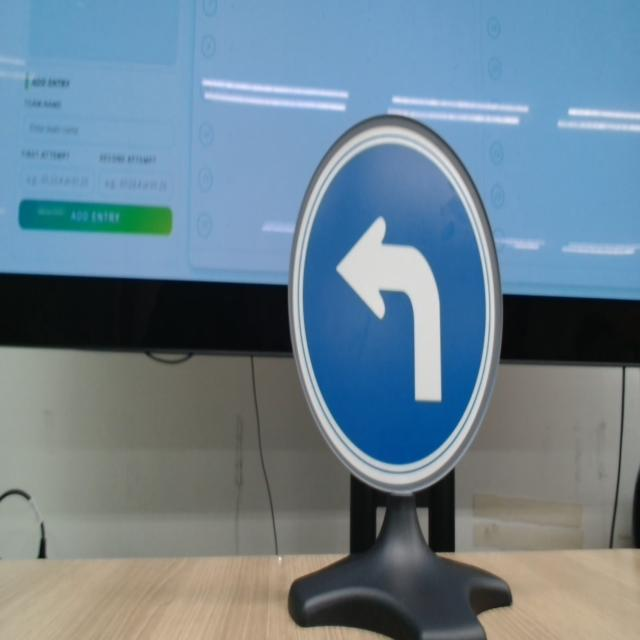left_direction: (281, 87, 515, 530)
